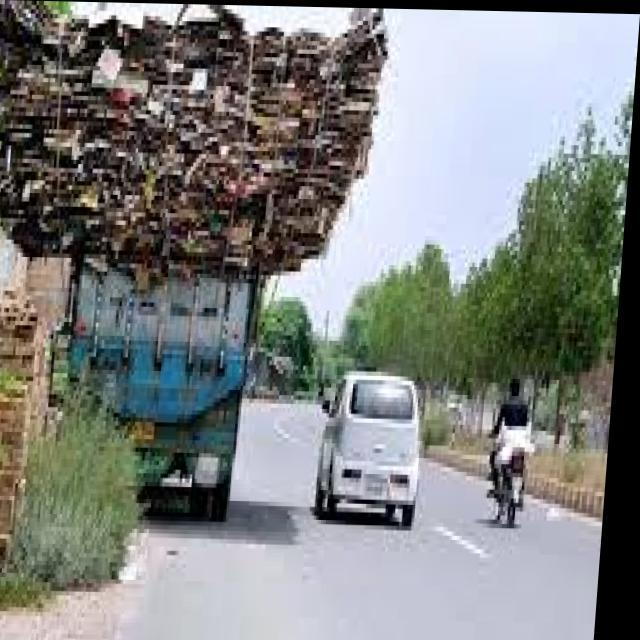uncovered: (0, 0, 391, 528)
